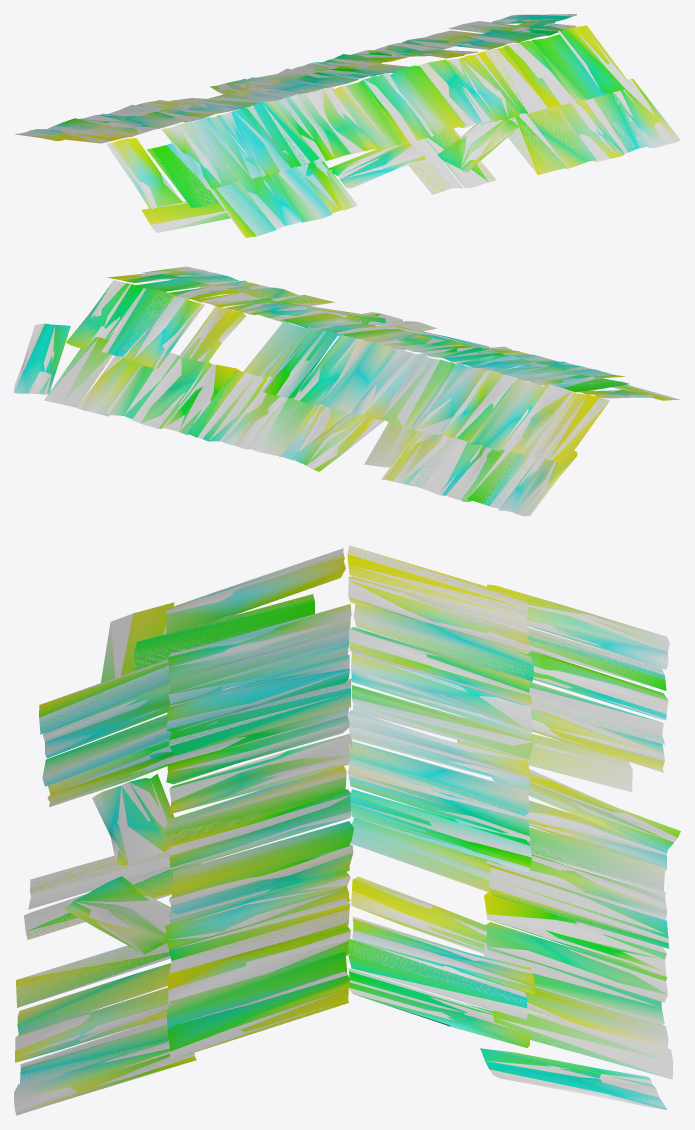
The model's file is SM_MillRoof_NN_02a.FBX.
3 renders of one model, top to bottom at view 1: azimuth 30°, elevation 25°; view 2: azimuth 150°, elevation 25°; view 3: azimuth 270°, elevation 25°, orthographic. The views are drawn at different scales.
Parts seen in each view (by area): view 1: SM_MillRoof_NN_02a_LOD0; view 2: SM_MillRoof_NN_02a_LOD0; view 3: SM_MillRoof_NN_02a_LOD0.
Boxes of the visible parts, bbox=[...] form: SM_MillRoof_NN_02a_LOD0: bbox=[15, 14, 680, 237]; SM_MillRoof_NN_02a_LOD0: bbox=[14, 266, 679, 516]; SM_MillRoof_NN_02a_LOD0: bbox=[14, 545, 680, 1115].
Size of what is drawn, in the model's own units: 1915 by 1097 by 204.
